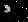person: (6, 7, 17, 20)
